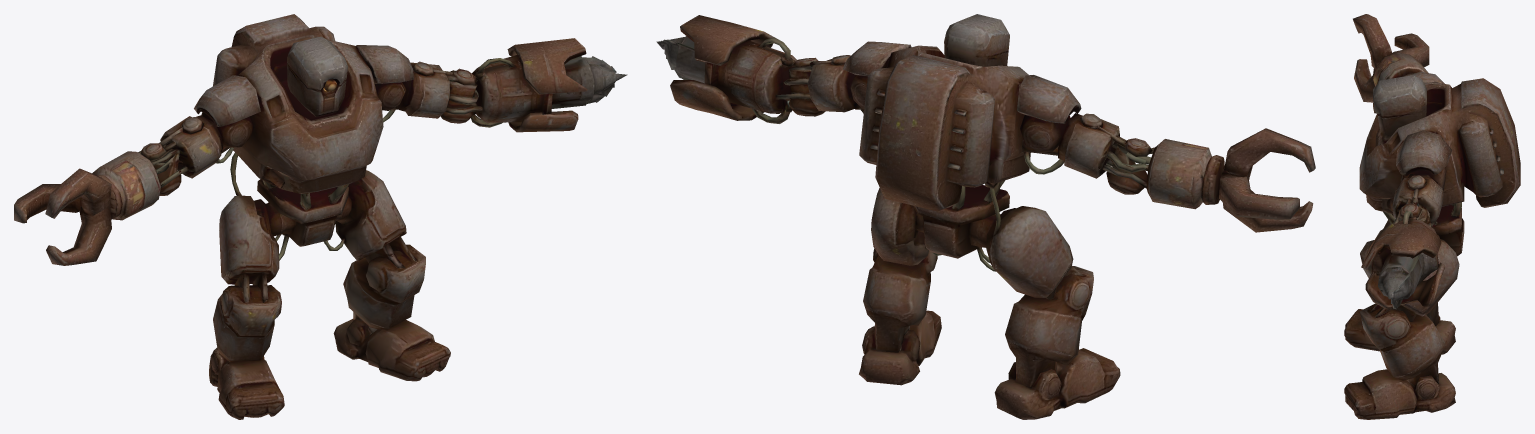
File: 019f425e-eced-7944-98e8-95bc7b2a6bdb.glb
The picture shows the model from 3 angles, left to right: view 1: azimuth 30°, elevation 25°; view 2: azimuth 150°, elevation 25°; view 3: azimuth 270°, elevation 25°; orthographic projection. The views are drawn at different scales.
Visible parts, largest first — view 1: tripo_node_50c0cfe5-babf-4bd2-81bf-f35f8d22db51; view 2: tripo_node_50c0cfe5-babf-4bd2-81bf-f35f8d22db51; view 3: tripo_node_50c0cfe5-babf-4bd2-81bf-f35f8d22db51.
Part boxes in pixels (bbox=[...]): tripo_node_50c0cfe5-babf-4bd2-81bf-f35f8d22db51: bbox=[14, 14, 627, 419]; tripo_node_50c0cfe5-babf-4bd2-81bf-f35f8d22db51: bbox=[656, 14, 1315, 419]; tripo_node_50c0cfe5-babf-4bd2-81bf-f35f8d22db51: bbox=[1344, 14, 1520, 419].
Size of the model in its own units: 0.998 by 0.5293 by 0.2871.
Materials: 1 (1 with a texture image).
